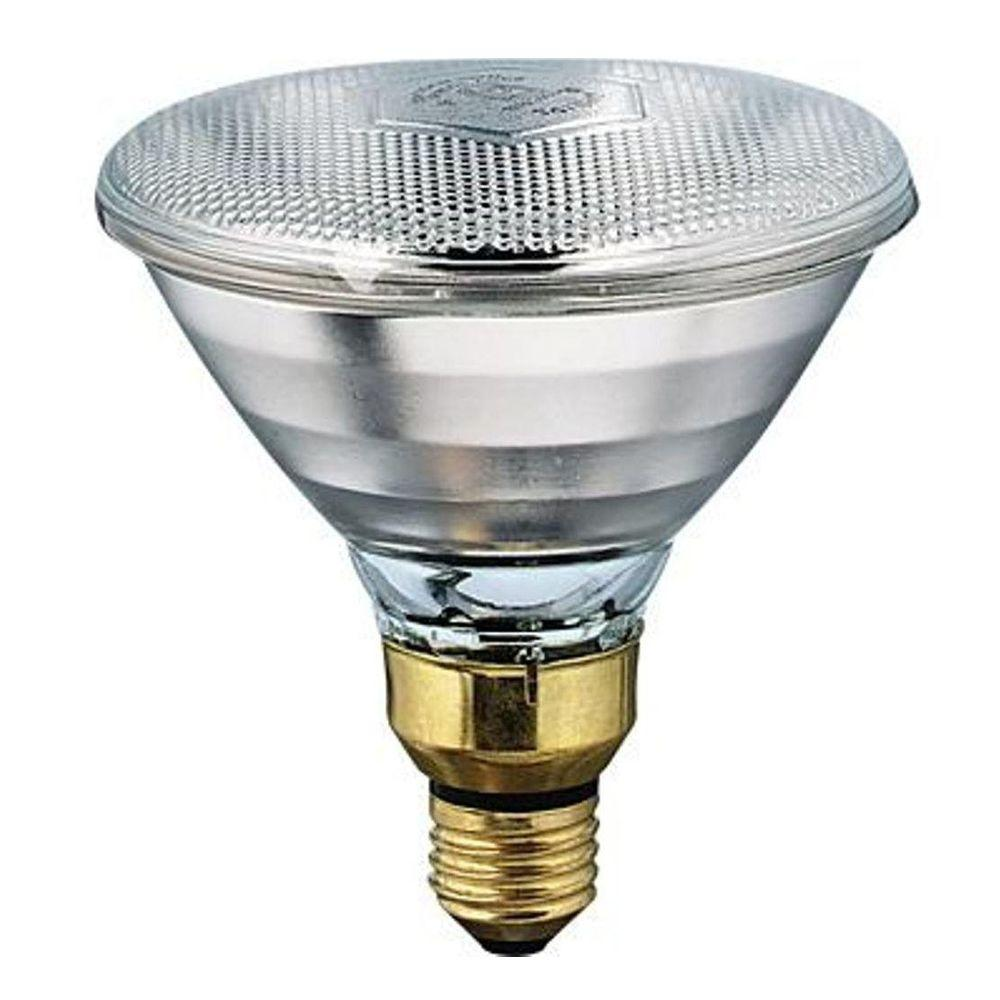Nonrec_Glass: (63, 1, 905, 927)
